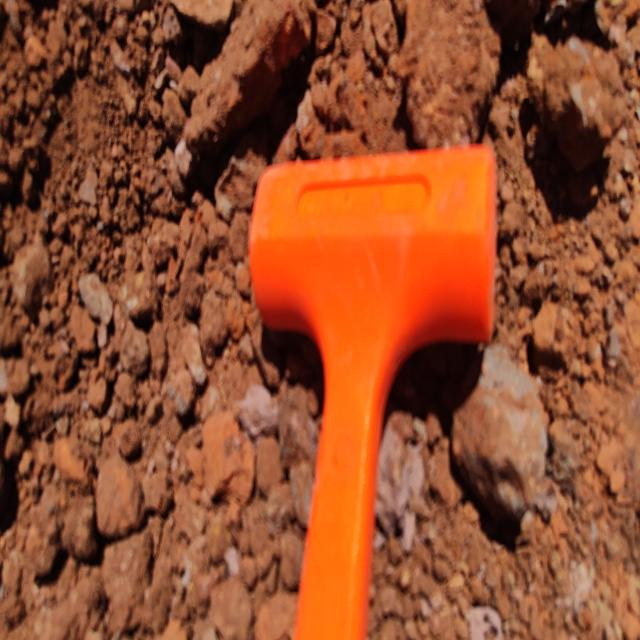Orange_hammer: (248, 141, 498, 638)
